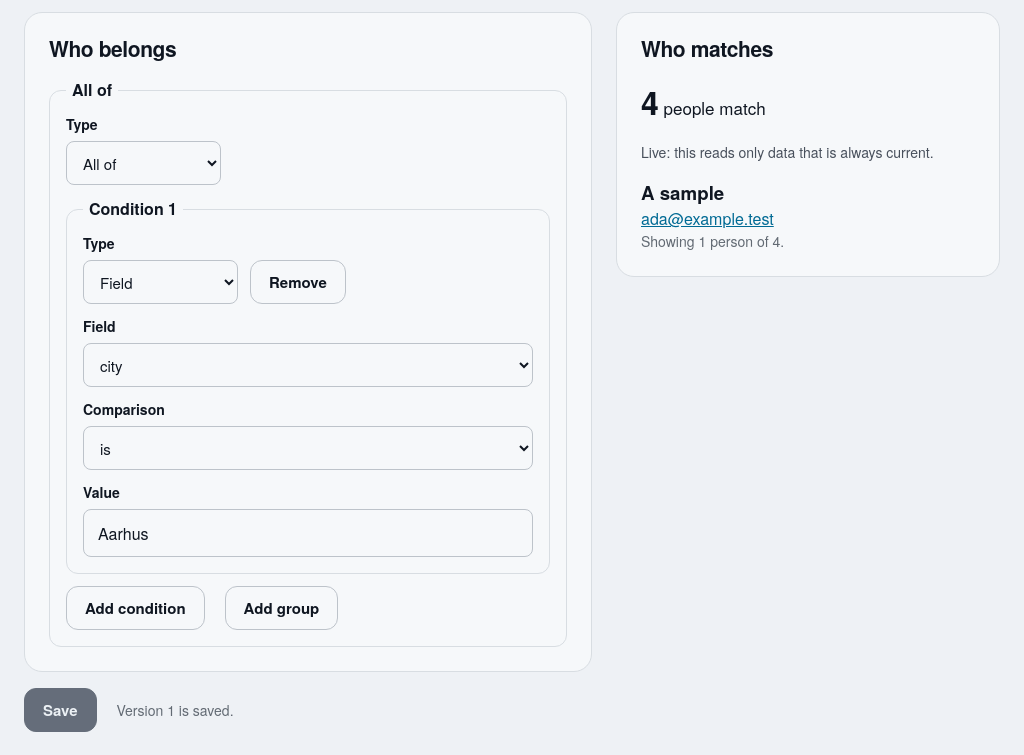
saving a segment › saves a changed definition as a new version and shows its number
The image size is (1024, 755).
(page scrolled)
Replace the text in the field labelled "Value" with "Odense" at point(308, 533), box [83,509,533,557]
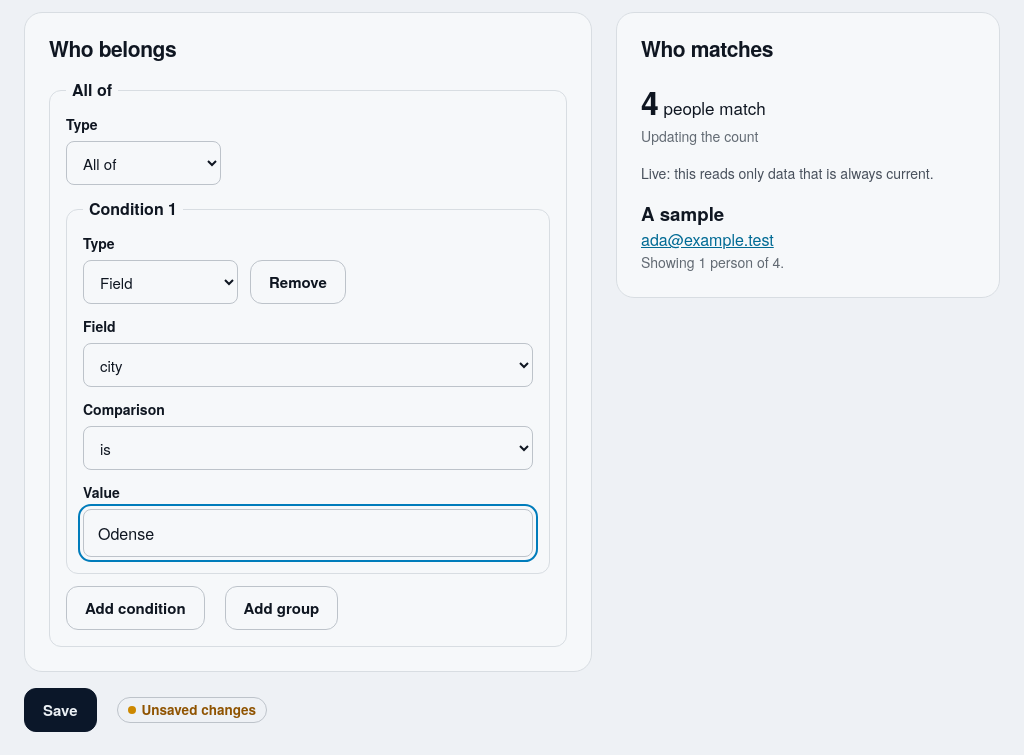
Check: the text "Unsaved changes" is shown, box [116,697,267,723]
Click the button "Save" at point(60, 710), box [24,688,96,732]
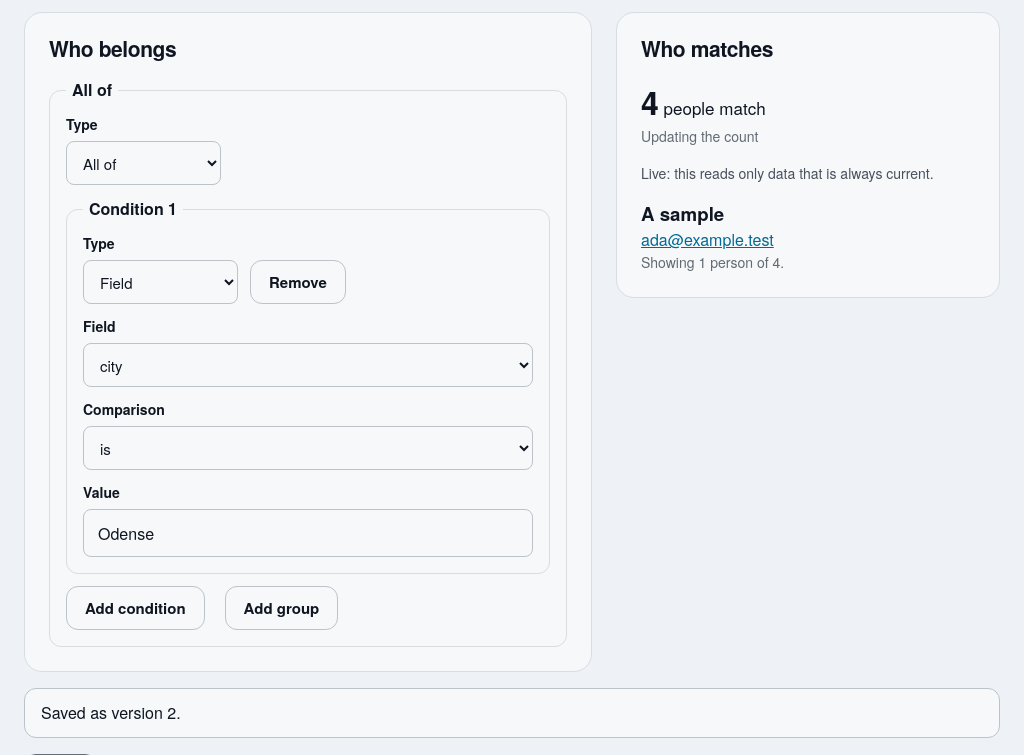
Check: the text "Saved as version 2." is shown, box [24,688,1000,738]
Check: the text "Unsaved changes" is gone
